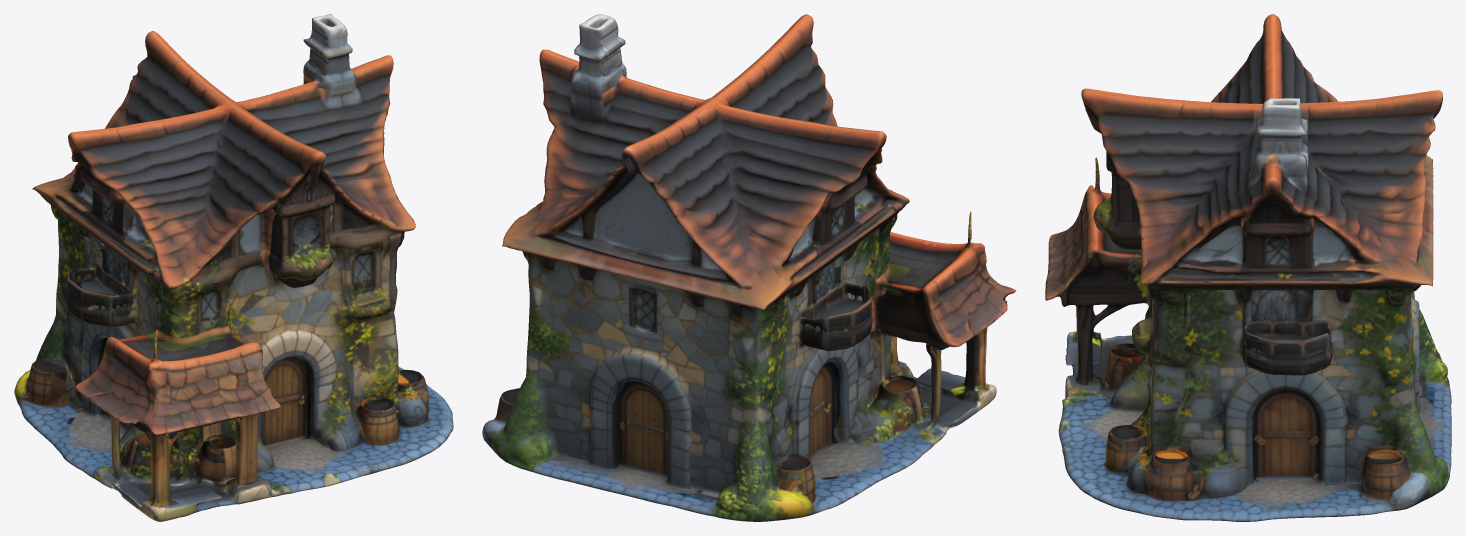
The model's file is fantasy_house.glb.
The picture shows the model from 3 angles, left to right: view 1: azimuth 30°, elevation 25°; view 2: azimuth 150°, elevation 25°; view 3: azimuth 270°, elevation 25°; orthographic projection. The views are drawn at different scales.
Parts seen in each view (by area): view 1: model_0; view 2: model_0; view 3: model_0.
Boxes of the visible parts, <box> form: model_0: <box>14,14,453,521</box>; model_0: <box>482,14,1016,521</box>; model_0: <box>1045,14,1451,521</box>.
Size of the model in its own units: 1 by 0.9361 by 0.9005.
Materials: 1 (1 with a texture image).
